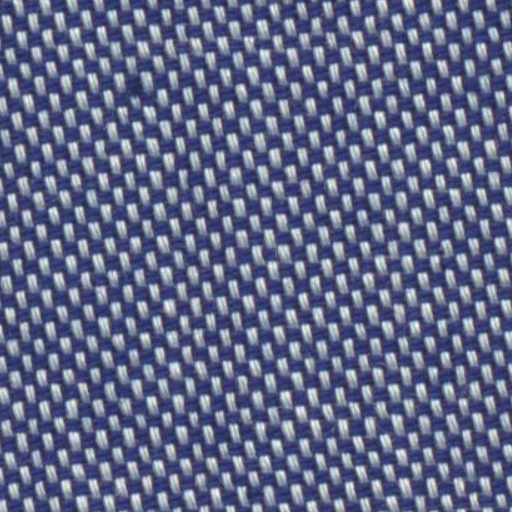MianQiu: (104, 58, 158, 110)
